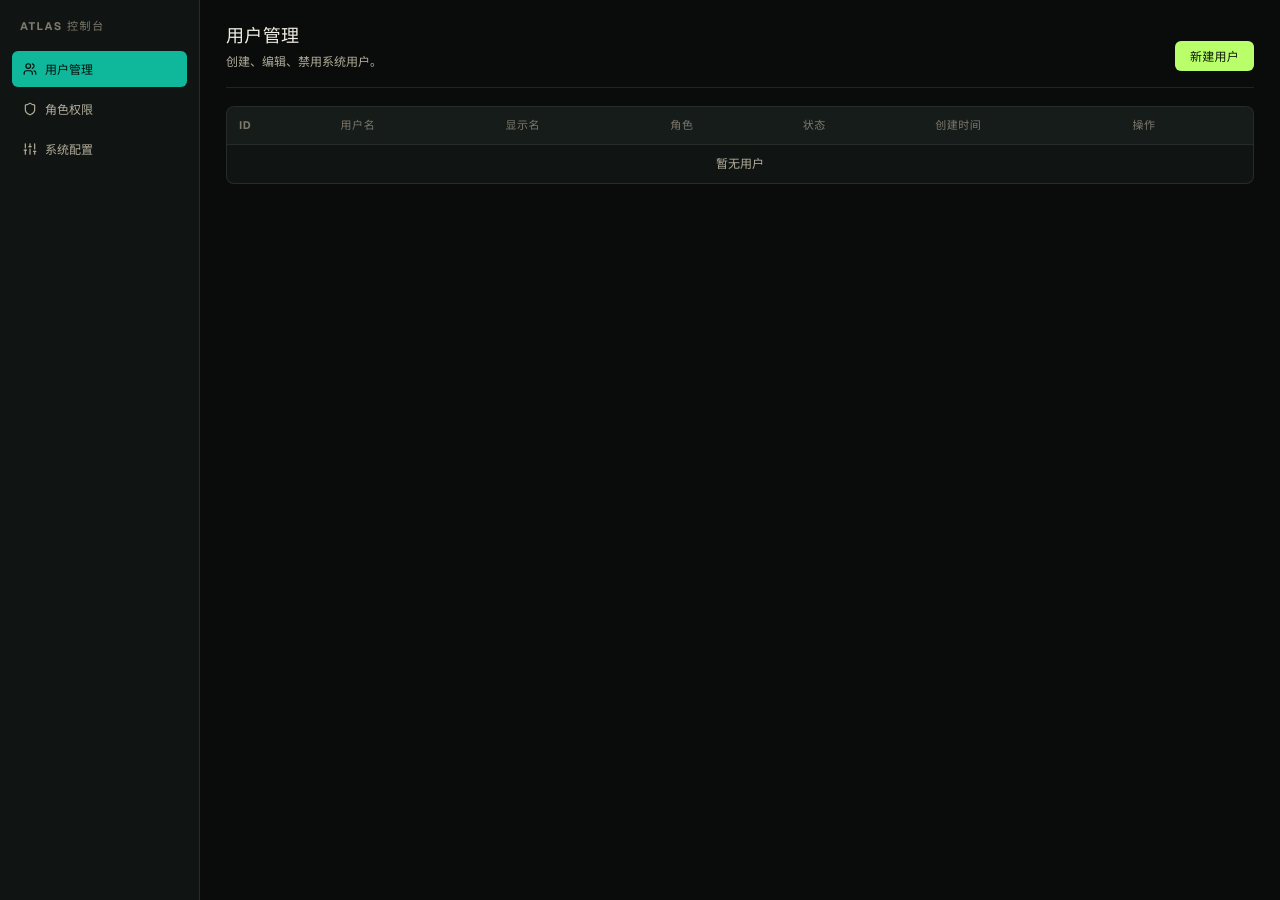
Test: AtlasShell › 点击角色权限切换到矩阵 view
Step 1. Click the button with test id "atlas-nav-roles" → (100, 108), box [12, 90, 187, 126]
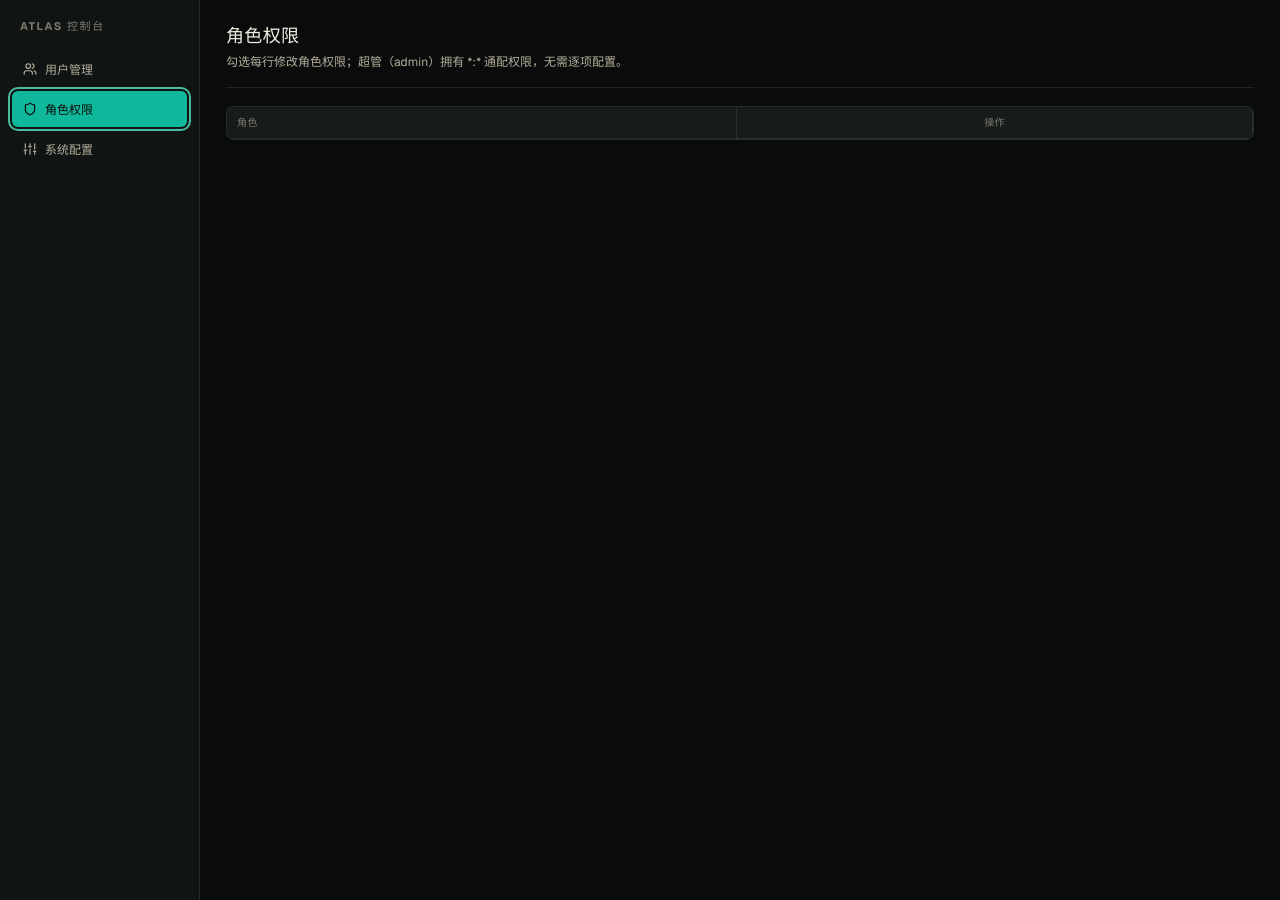
Now the element with test id "atlas-roles-matrix" is shown, box [226, 22, 1254, 140]
